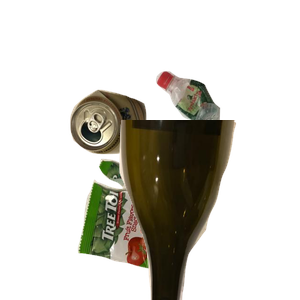glass: (117, 120, 300, 300)
metal: (67, 87, 206, 234)
plastic: (153, 68, 300, 190)
trash: (75, 156, 244, 300)
